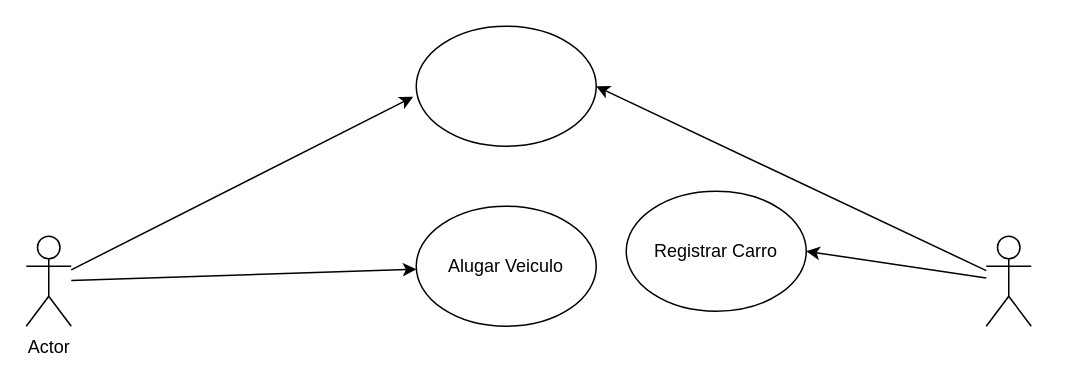
Some shapes in this 1082 by 384 pixel diagram are drawn without their labels. Here are the shapes that lost their labels. From the top down, the centre of each, then its label:
[505,85]: Cadastrar Cliente
[1008,280]: Funcionário
